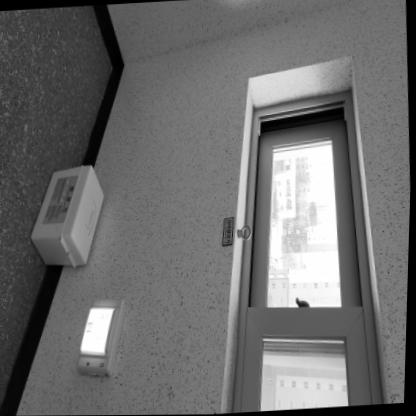DDL: (26, 165, 108, 270)
